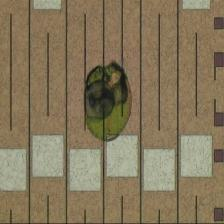PARTICLE: (83, 60, 134, 144)
